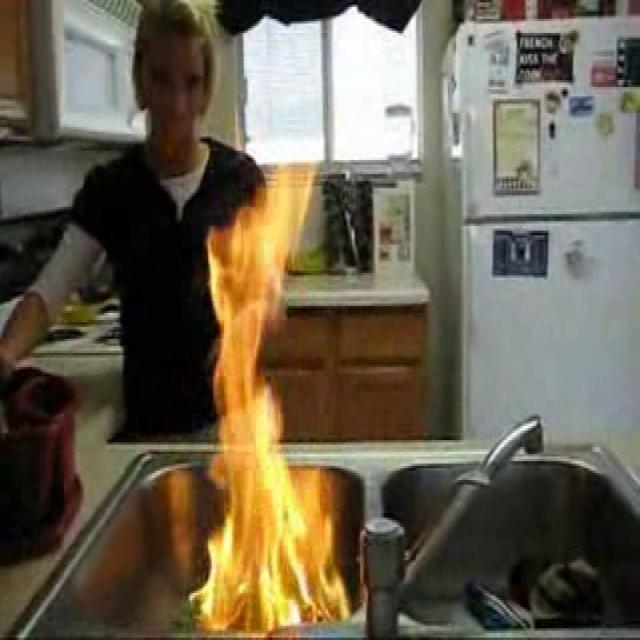fire: (203, 174, 324, 624)
